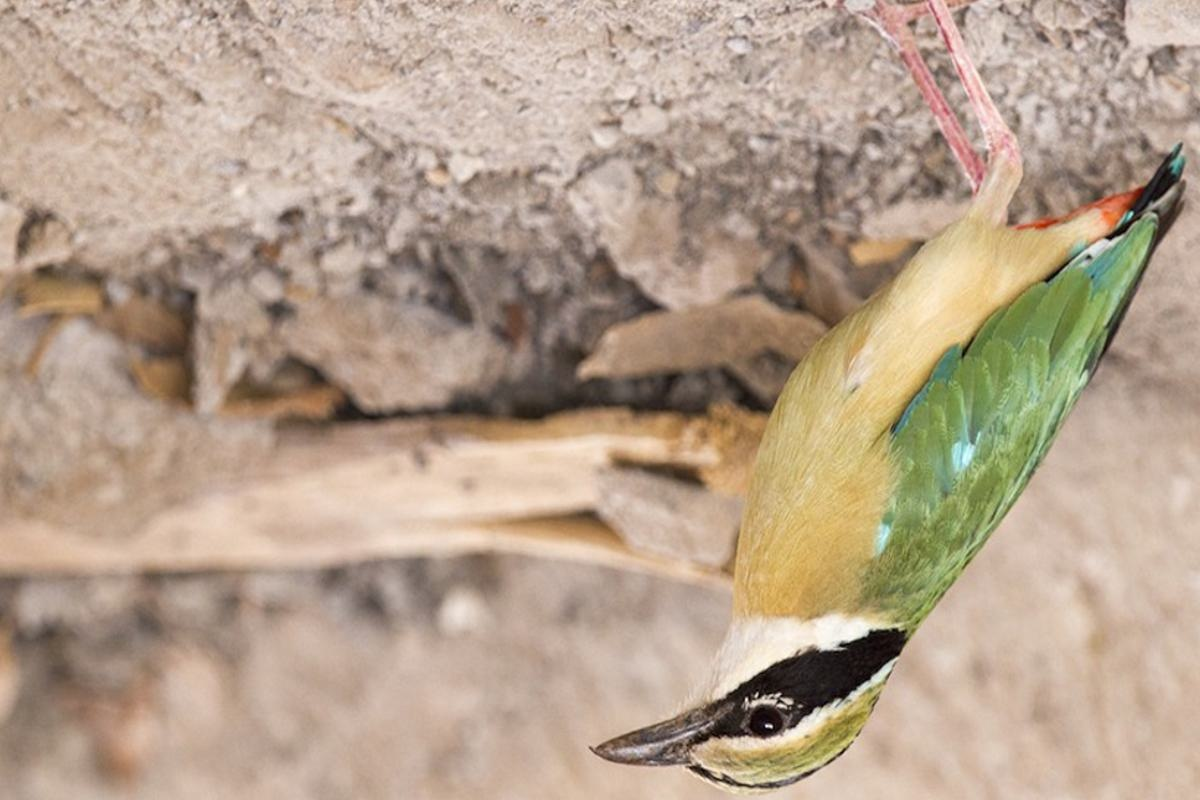pitta: (594, 50, 1148, 788)
